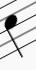HC: (4, 2, 27, 61)
